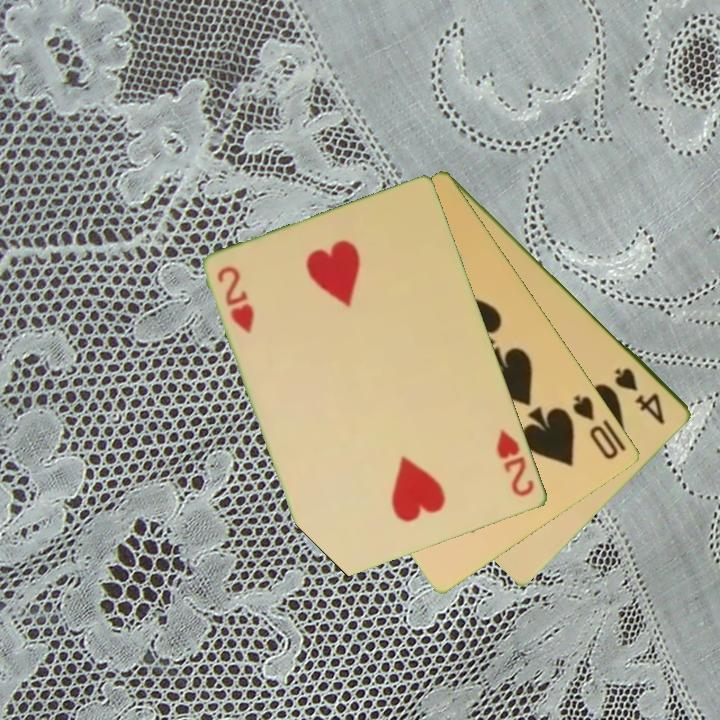10s: (569, 391, 622, 463)
2h: (493, 425, 538, 500), (214, 263, 258, 337)
4s: (611, 364, 669, 428)
